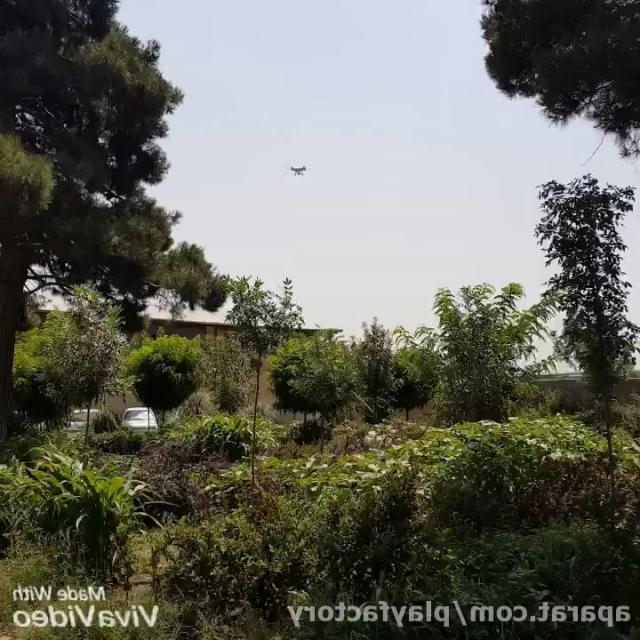drone: (284, 158, 314, 180)
